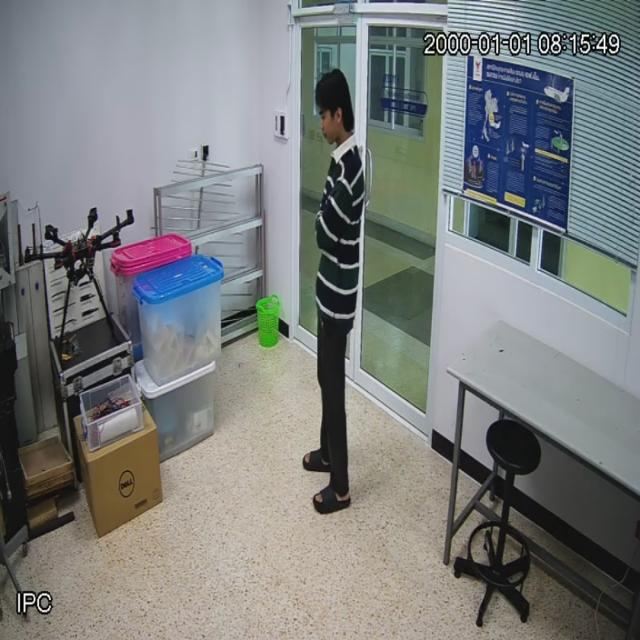normal: (302, 71, 381, 513)
